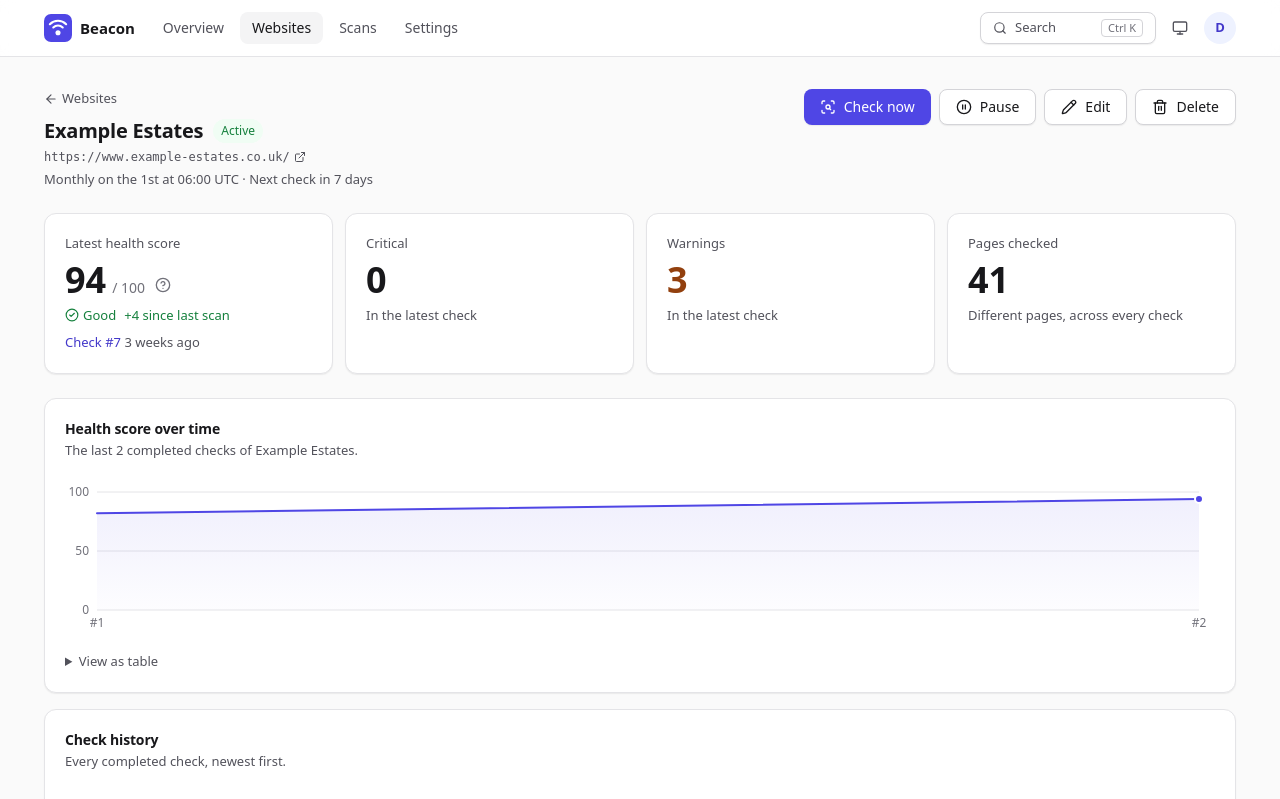
Test: website detail › pauses and resumes
The image size is (1280, 799).
Click the button "Pause": (988, 107) [939,89,1036,125]
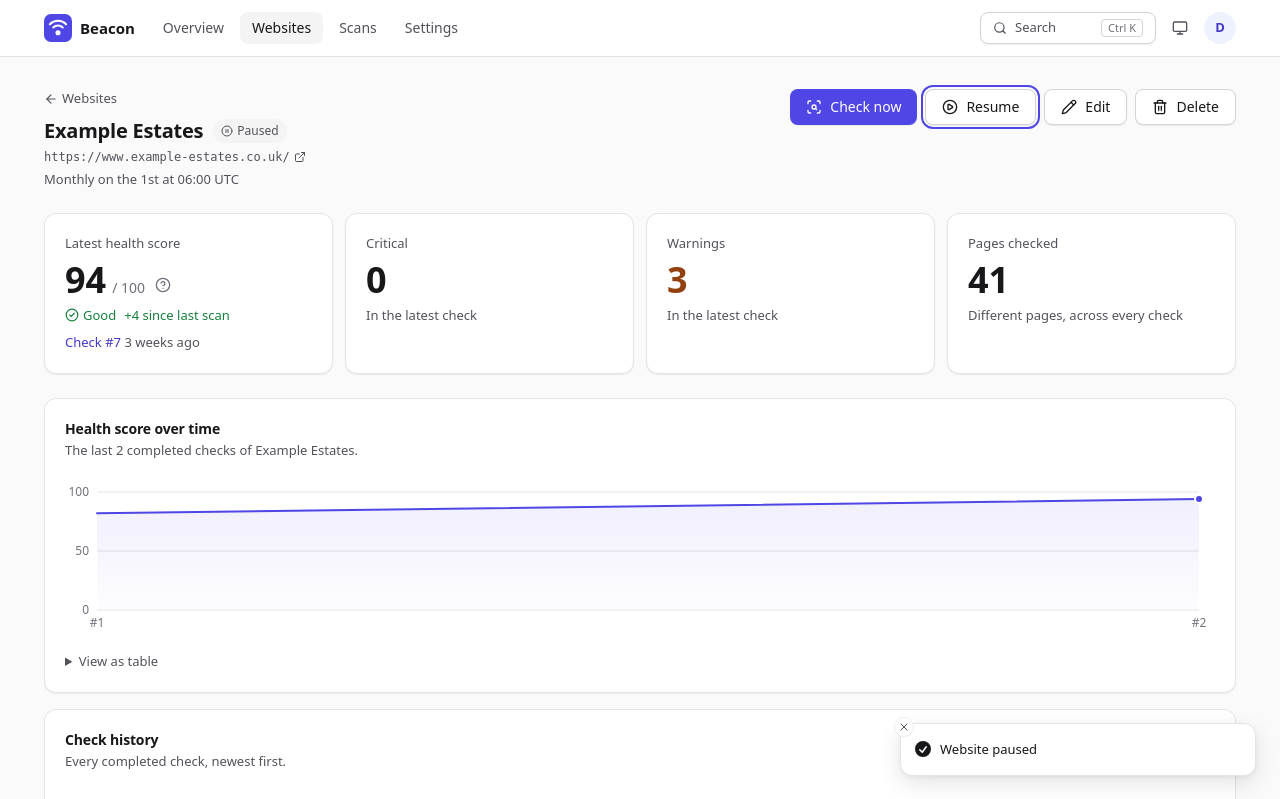
Check: the text "Website paused" is shown, box [940,740,1037,759]
Check: the button "Resume" is shown, box [925,89,1036,125]
Check: the text "Paused" is shown, box [213,118,287,142]
